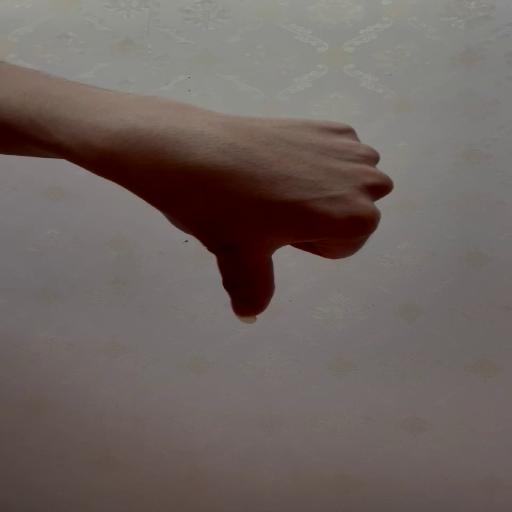thumbs_down: (138, 117, 395, 326)
